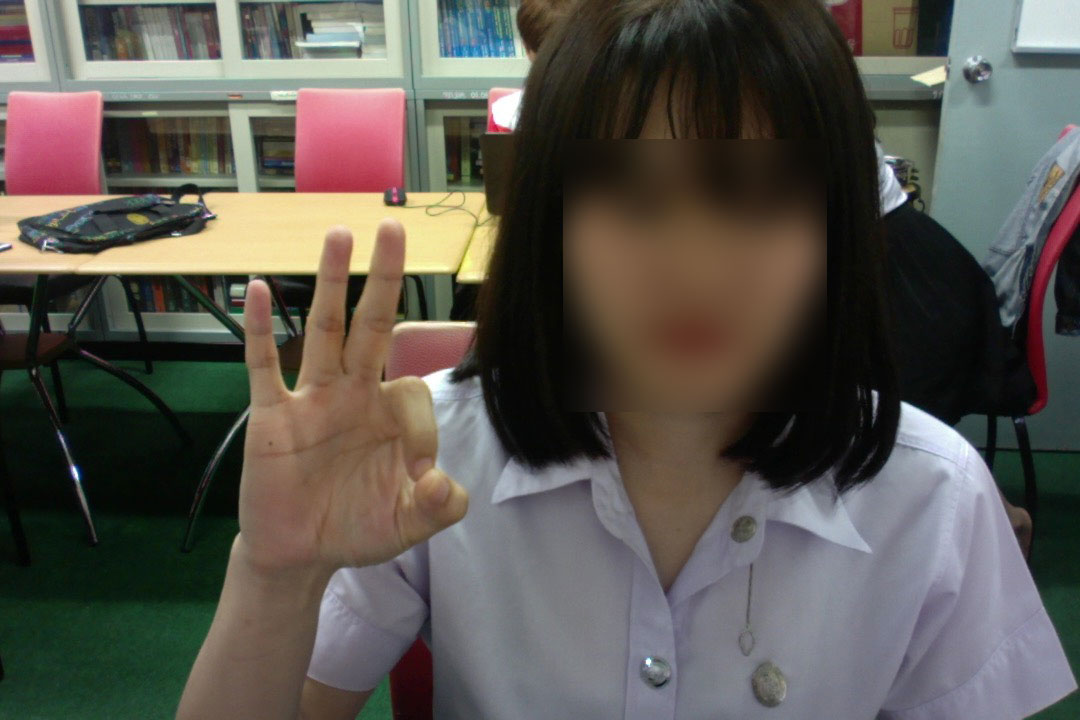for: (231, 205, 475, 583)
